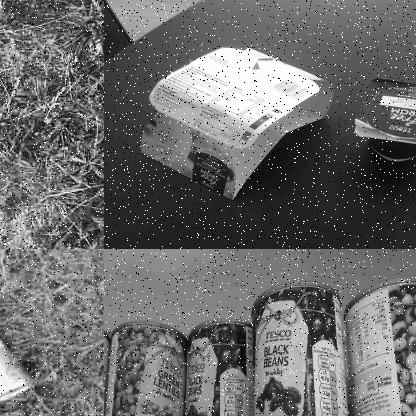metal: (250, 278, 352, 415), (343, 273, 415, 415), (109, 323, 188, 415), (187, 317, 254, 415), (0, 298, 39, 410)
plastic: (140, 49, 329, 198), (349, 68, 415, 172)
